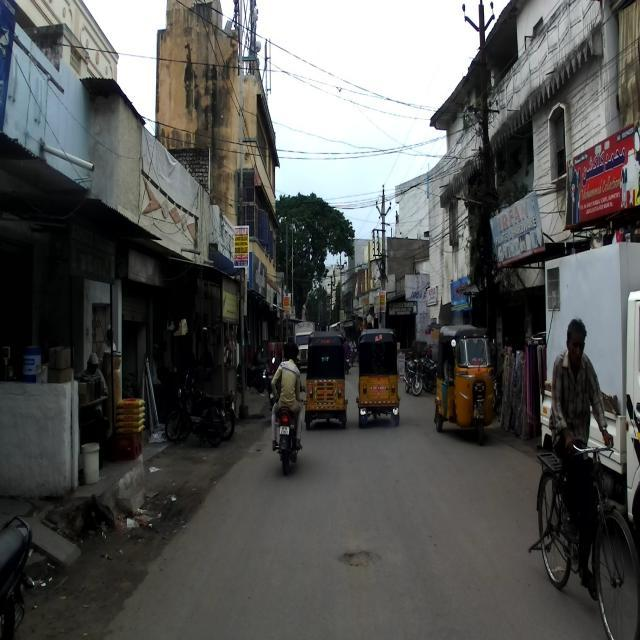pothole: (335, 524, 403, 595)
